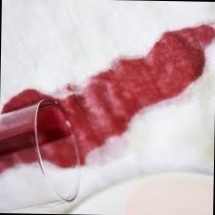wine: (108, 57, 181, 114), (69, 91, 126, 149), (166, 36, 211, 91)
